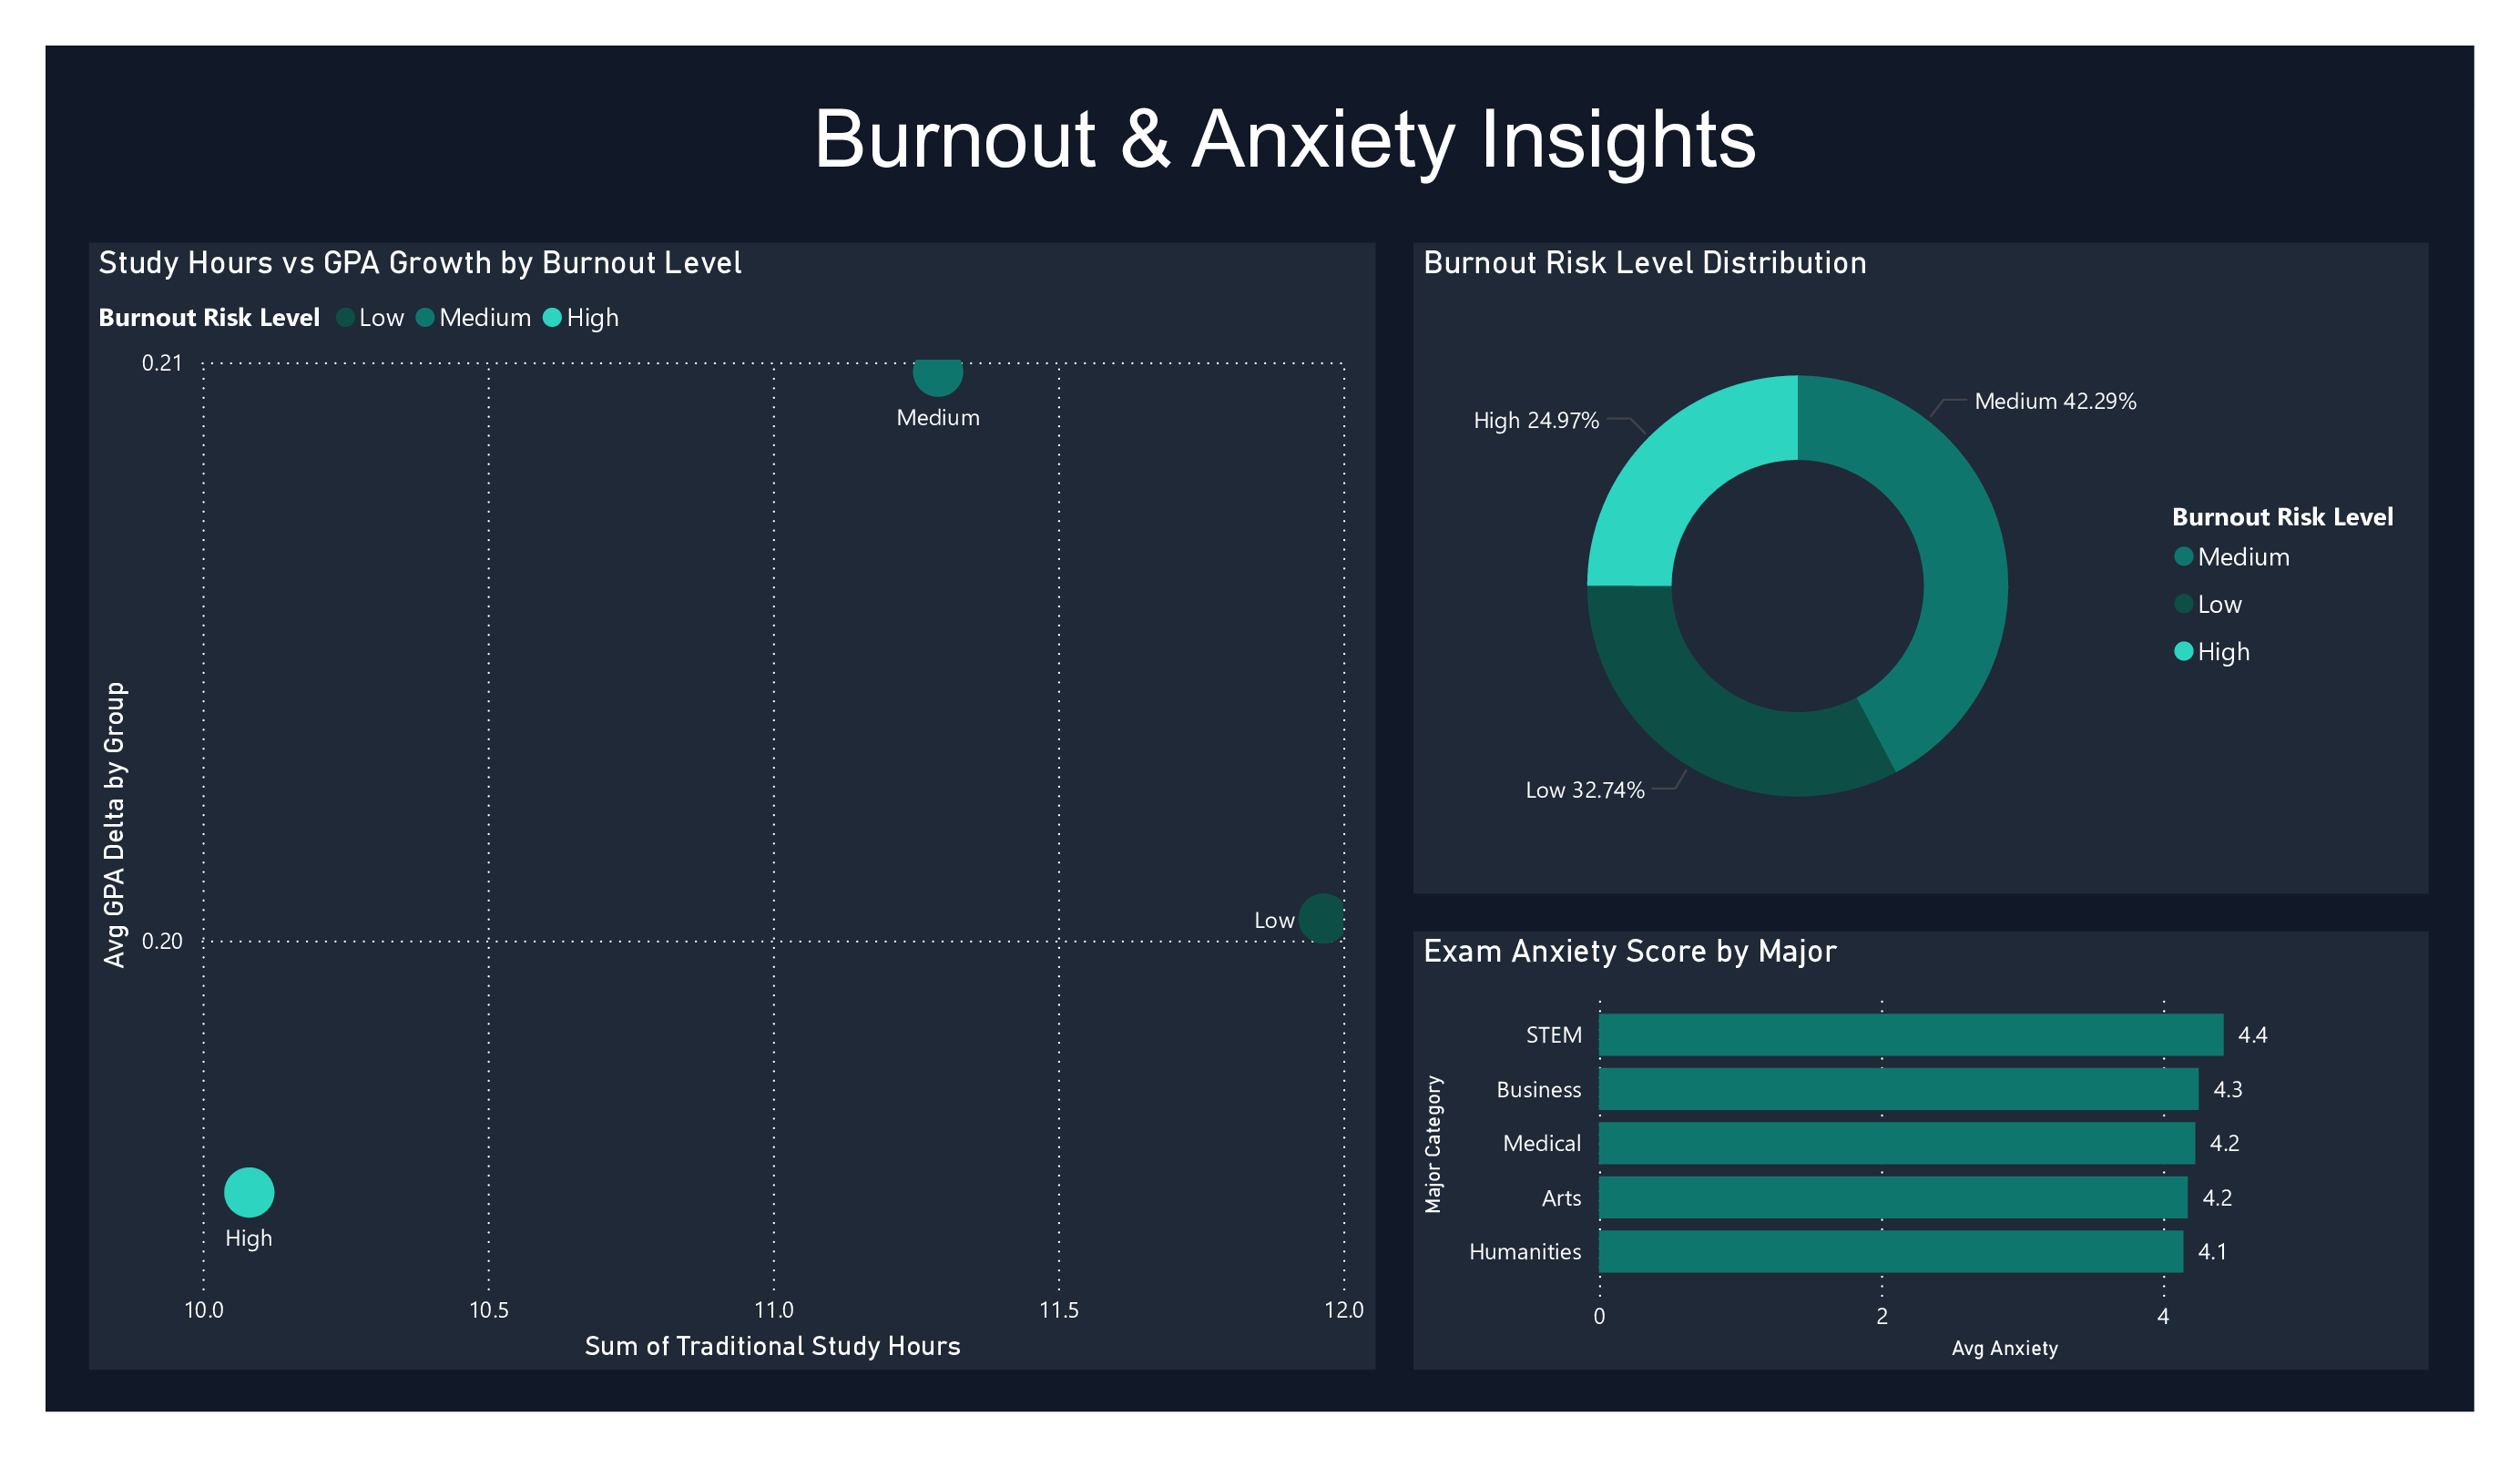

What the dashboard file says about the page in this screenshot:
{"tool":"powerbi","page":{"name":"Burnout & Anxiety","canvas":[1280,720],"ordinal":3},"visuals":[{"type":"donutChart","title":"Burnout Risk Level Distribution","fields":{"Category":["ai_student_impact_dataset (1).Burnout_Risk_Level"],"Y":["ai_student_impact_dataset (1).Total Students"]},"box":[721.1,104.4,534.4,342.2],"z":0},{"type":"scatterChart","title":"Study Hours vs GPA Growth by Burnout Level","fields":{"X":["Avg(ai_student_impact_dataset (1).Traditional_Study_Hours)"],"Y":["ai_student_impact_dataset (1).Avg GPA Delta by Group"],"Series":["ai_student_impact_dataset (1).Burnout_Risk_Level"]},"box":[23.3,104.4,677.8,593.3],"z":1000},{"type":"clusteredBarChart","title":"Exam Anxiety Score by Major","fields":{"Category":["ai_student_impact_dataset (1).Major Category"],"Y":["ai_student_impact_dataset (1).Avg Anxiety"]},"box":[721.1,466.7,534.4,231.1],"z":2000},{"type":"textbox","box":[171.1,20,964.4,68.9],"z":3000}]}

Visuals, with their boxes on the page's 1280x720 design canvas (x1, y1, x2, y2). These are canvas units, not pixel positions in the 2520x1457 screenshot, which may show the page scaled, cropped or inside an application window:
"Burnout Risk Level Distribution" donutChart: x1=721, y1=104, x2=1256, y2=447
"Study Hours vs GPA Growth by Burnout Level" scatterChart: x1=23, y1=104, x2=701, y2=698
"Exam Anxiety Score by Major" clusteredBarChart: x1=721, y1=467, x2=1256, y2=698
textbox: x1=171, y1=20, x2=1136, y2=89
